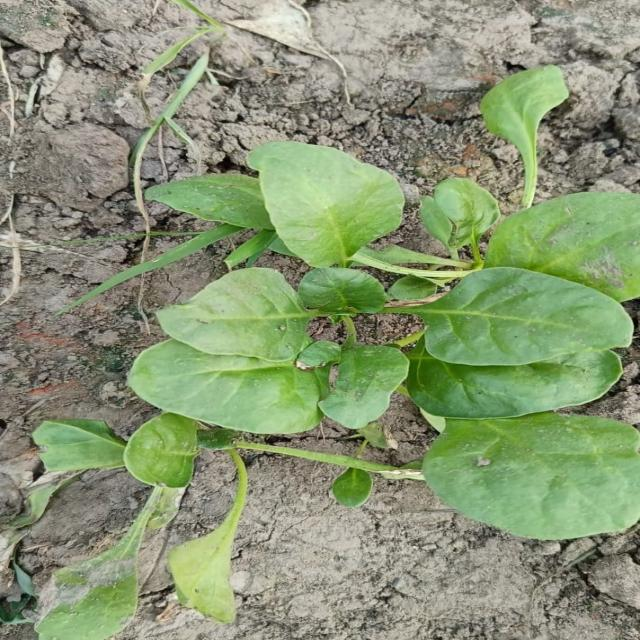plant: (33, 141, 640, 640), (482, 66, 569, 205)
